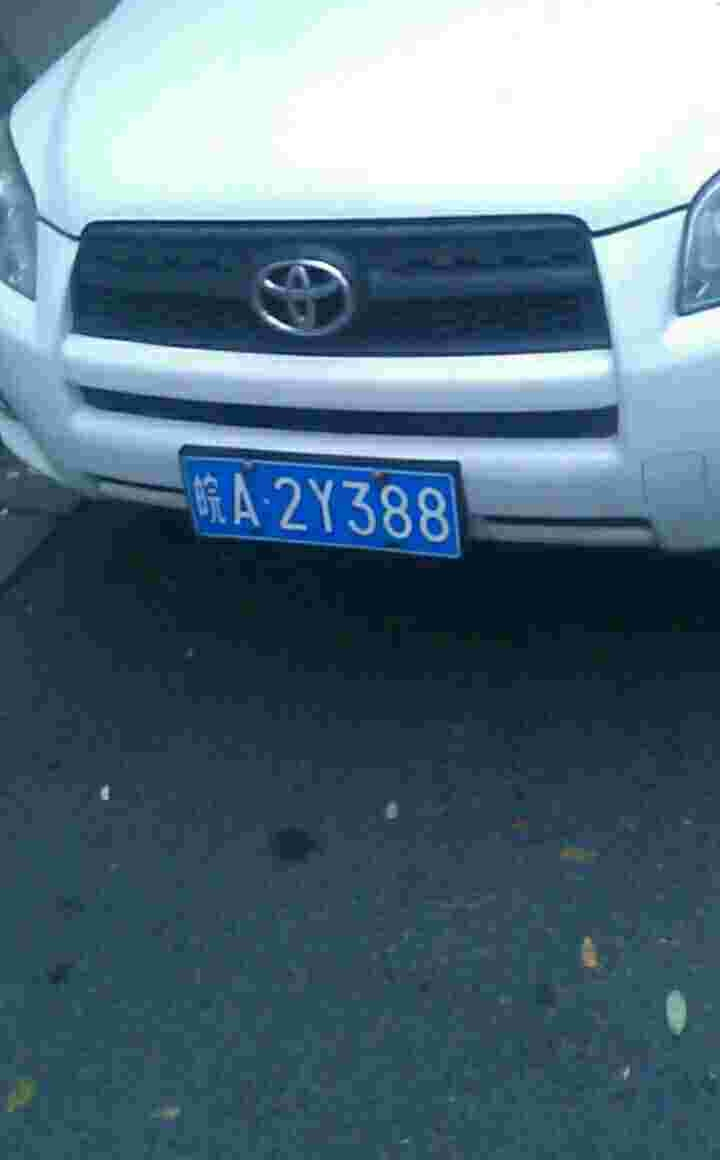license_plate: (164, 458, 448, 566)
